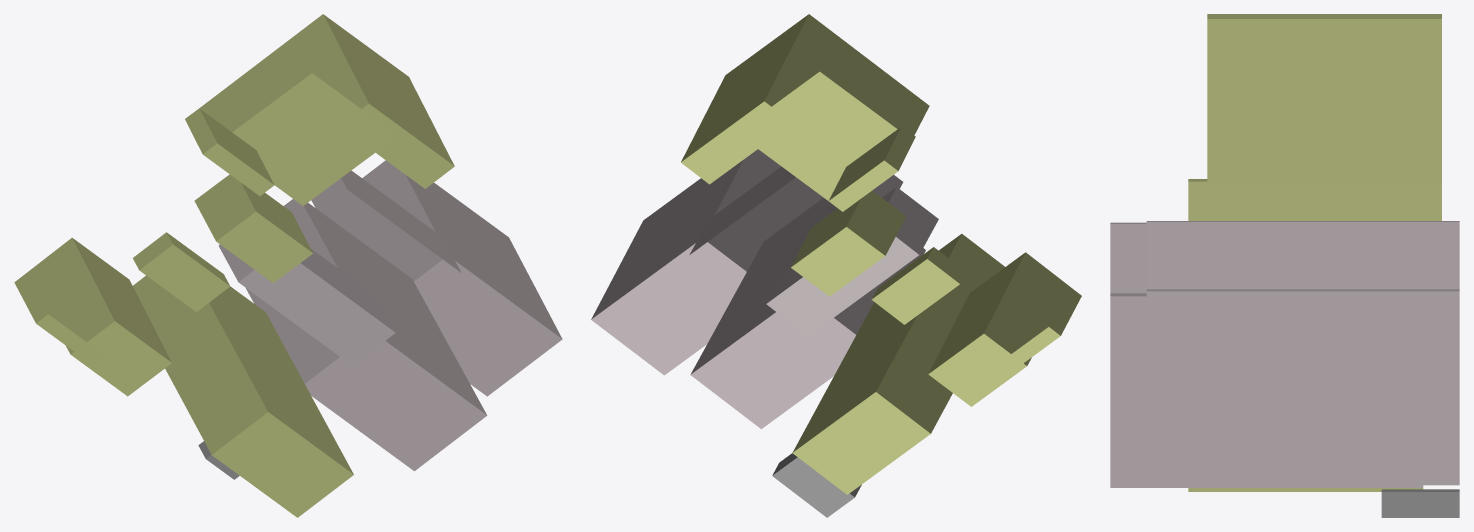
The picture shows the model from 3 angles, left to right: view 1: azimuth 30°, elevation 25°; view 2: azimuth 150°, elevation 25°; view 3: azimuth 270°, elevation 25°; orthographic projection. The views are drawn at different scales.
Parts seen in each view (by area): view 1: 0_1_1_3_2_2_3_0_1_1; view 2: 0_1_1_3_2_2_3_0_1_1; view 3: 0_1_1_3_2_2_3_0_1_1.
Boxes of the visible parts, x1,y1,x2,y2 form: 0_1_1_3_2_2_3_0_1_1: (14,14,562,517); 0_1_1_3_2_2_3_0_1_1: (591,14,1081,517); 0_1_1_3_2_2_3_0_1_1: (1110,14,1459,517).
Bounding box in the file's own units: 26.64 × 24.44 × 13.4.
